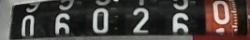digits: (165, 0, 193, 37), (51, 0, 78, 38), (17, 0, 41, 38), (212, 0, 230, 24), (92, 8, 109, 32), (132, 8, 149, 32)
